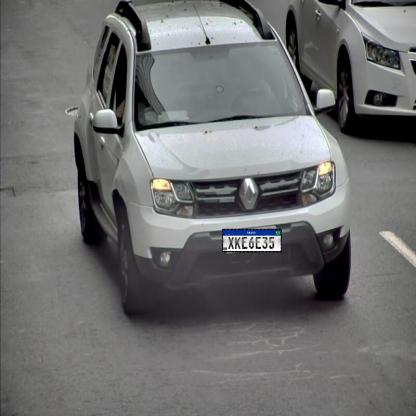PlacaM: (222, 229, 282, 252)
